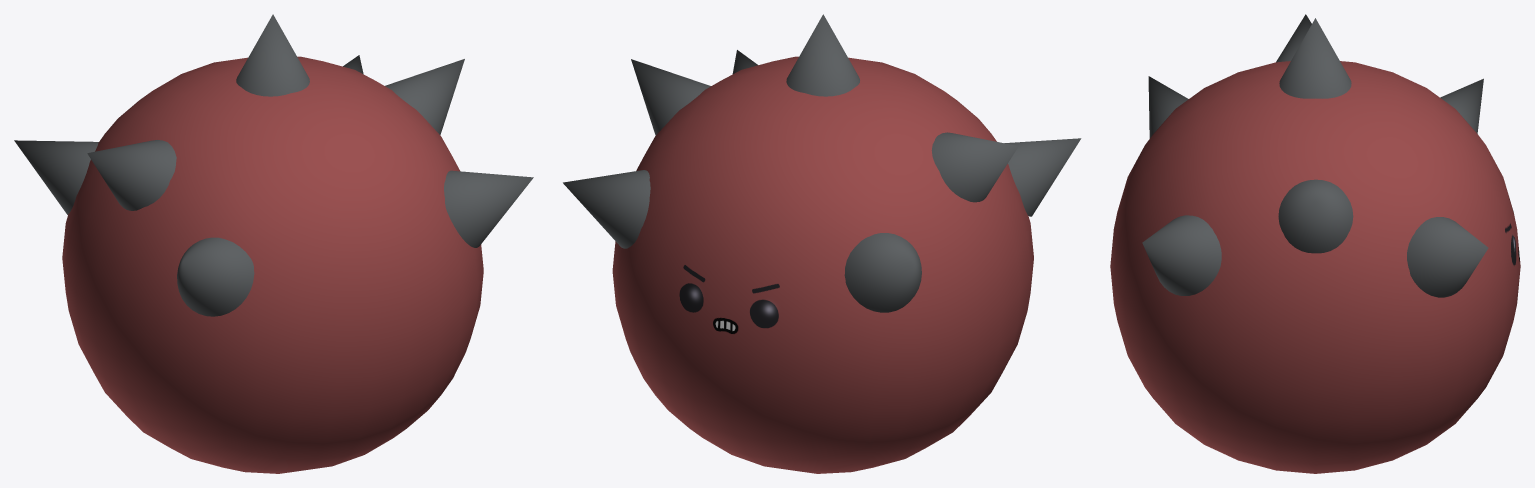
Rendered from ball.fbx.
3 renders of one model, left to right at view 1: azimuth 30°, elevation 25°; view 2: azimuth 150°, elevation 25°; view 3: azimuth 270°, elevation 25°, orthographic.
Parts seen in each view (by area): view 1: Cube, Cone.003, Cone.006, Cone.002, Cone, Cone.004, Cone.001; view 2: Cube, Cone.004, Cone.005, Cone.002, Cone, Cone.003, Cone.001; view 3: Cube, Cone.006, Cone.005, Cone.001, Cone, Cone.003, Cone.004, Cone.002.
Part boxes in pixels (left/top/right/bottom): Cube: left=62, top=56, right=483, bottom=473; Cone.003: left=177, top=237, right=254, bottom=316; Cone.006: left=444, top=170, right=533, bottom=247; Cone.002: left=87, top=140, right=176, bottom=210; Cone: left=236, top=14, right=309, bottom=96; Cone.004: left=14, top=140, right=98, bottom=214; Cone.001: left=385, top=59, right=464, bottom=135; Cube: left=612, top=56, right=1033, bottom=473; Cone.004: left=844, top=233, right=921, bottom=312; Cone.005: left=563, top=170, right=650, bottom=248; Cone.002: left=931, top=132, right=1018, bottom=202; Cone: left=786, top=14, right=859, bottom=96; Cone.003: left=1004, top=138, right=1081, bottom=216; Cone.001: left=631, top=59, right=710, bottom=135; Cube: left=1110, top=61, right=1520, bottom=473; Cone.006: left=1142, top=215, right=1221, bottom=295; Cone.005: left=1407, top=217, right=1488, bottom=297; Cone.001: left=1278, top=179, right=1353, bottom=253; Cone: left=1279, top=18, right=1351, bottom=98; Cone.003: left=1148, top=76, right=1188, bottom=138; Cone.004: left=1440, top=78, right=1483, bottom=133; Cone.002: left=1276, top=14, right=1311, bottom=62.
Size of the model in its own units: 180 by 196 by 168.
2 materials, 1 textured.
